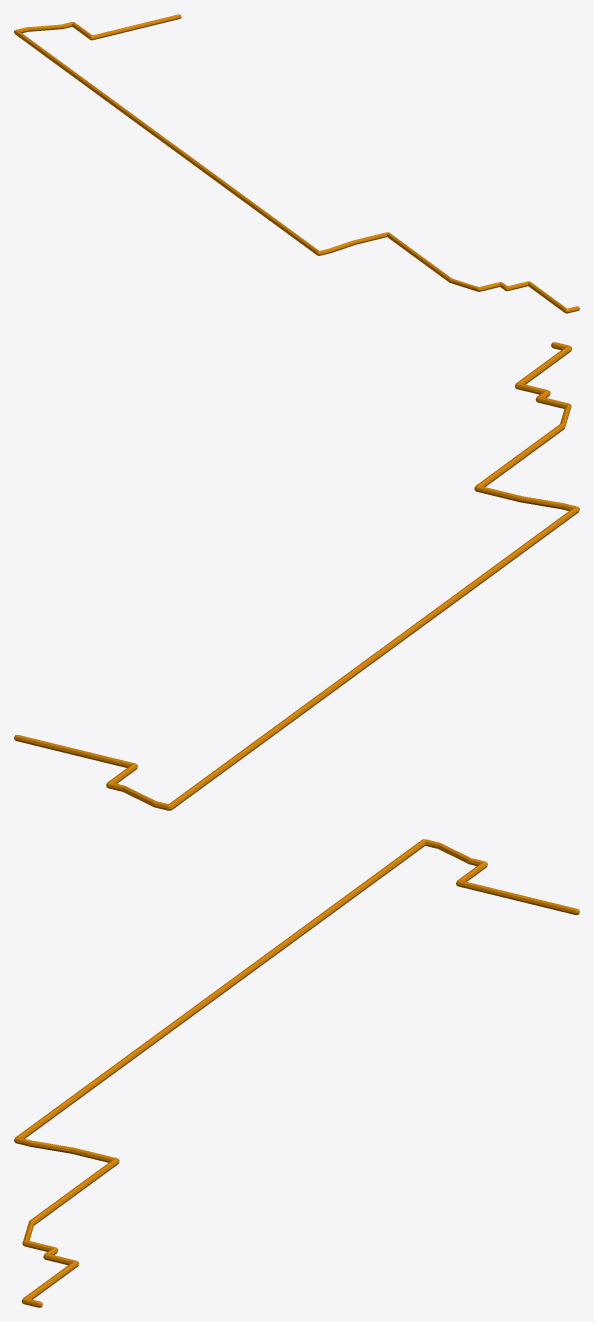
The picture shows the model from 3 angles, top to bottom: view 1: azimuth 30°, elevation 25°; view 2: azimuth 150°, elevation 25°; view 3: azimuth 330°, elevation 25°; orthographic projection. The views are drawn at different scales.
Size of the model in its own units: 652 by 20 by 3380.
